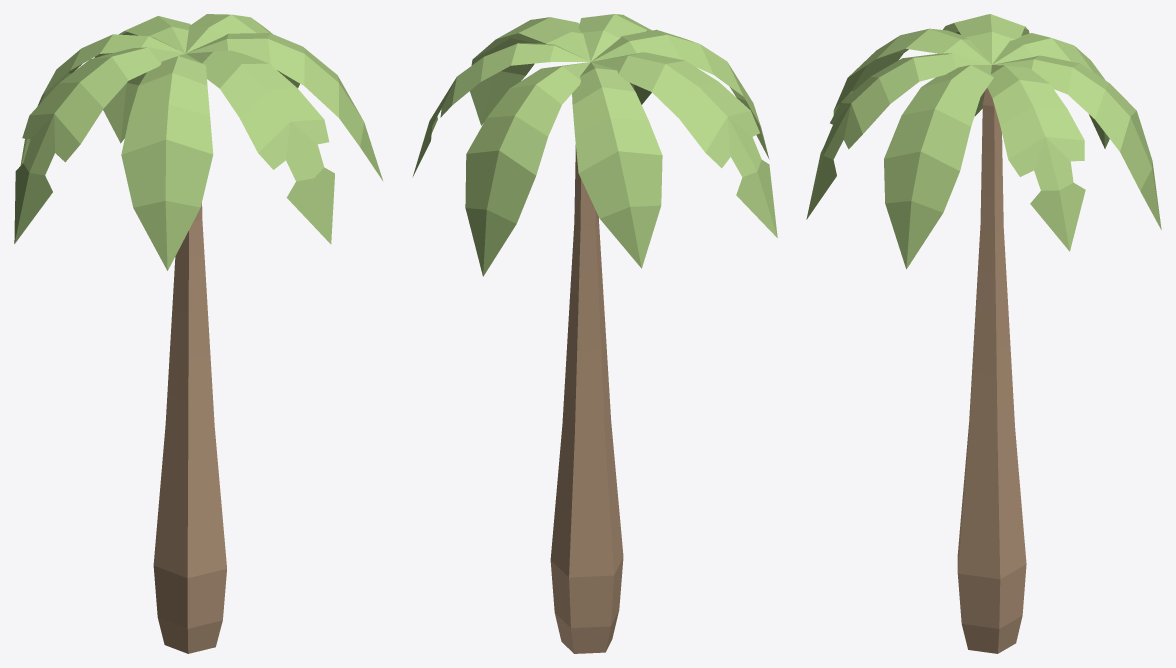
The model's file is palm.glb.
The picture shows the model from 3 angles, left to right: view 1: azimuth 30°, elevation 25°; view 2: azimuth 150°, elevation 25°; view 3: azimuth 270°, elevation 25°; orthographic projection. The views are drawn at different scales.
Visible parts, largest first — view 1: palm; view 2: palm; view 3: palm.
Boxes of the visible parts, box(x1,y1,x2,y2) form: palm: box(14, 14, 383, 653); palm: box(412, 14, 777, 653); palm: box(806, 14, 1161, 653).
Bounding box in the file's own units: 358 × 619 × 337.
